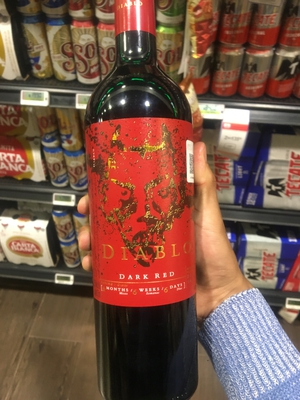diablo dark red: (77, 30, 209, 400)
